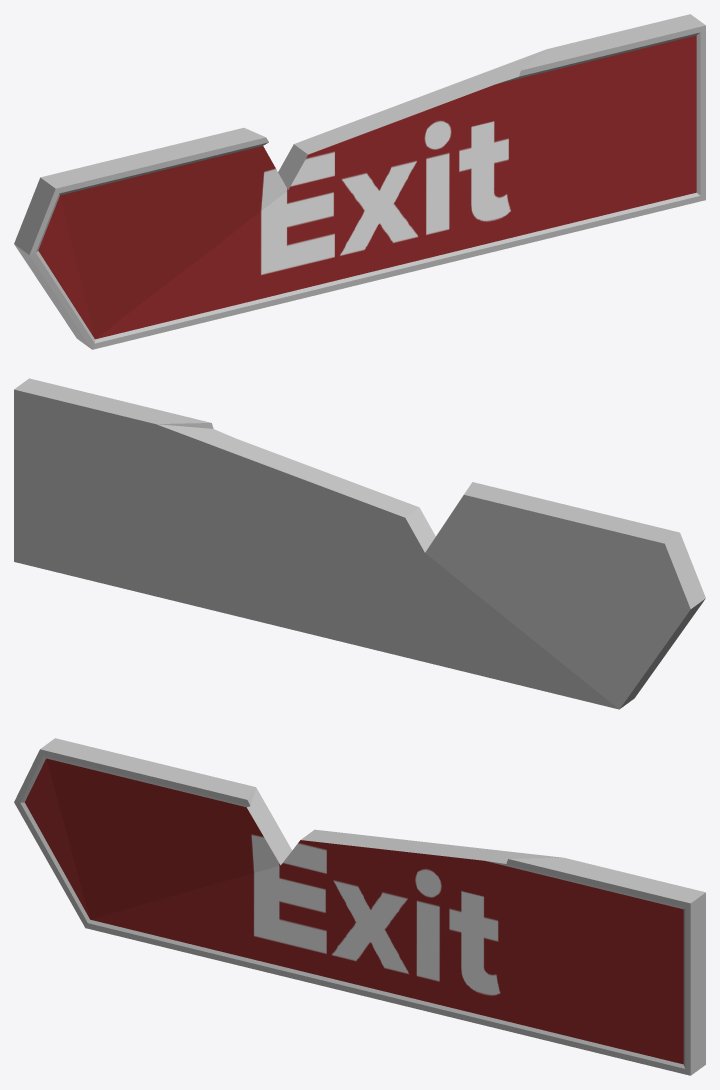
File: SM_Direction_Indicator_03_B.fbx
3 renders of one model, top to bottom at view 1: azimuth 30°, elevation 25°; view 2: azimuth 150°, elevation 25°; view 3: azimuth 330°, elevation 25°, orthographic.
Parts seen in each view (by area): view 1: SM_Direction_Indicator_03_B; view 2: SM_Direction_Indicator_03_B; view 3: SM_Direction_Indicator_03_B.
Boxes of the visible parts, box(x1,y1,x2,y2) form: SM_Direction_Indicator_03_B: box(14, 14, 705, 349); SM_Direction_Indicator_03_B: box(14, 378, 705, 709); SM_Direction_Indicator_03_B: box(14, 738, 705, 1075).
Size of the model in its own units: 56.65 by 13.88 by 2.91.
